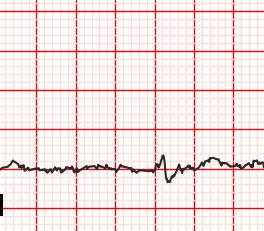Poor R Progression: (158, 151, 168, 173)
